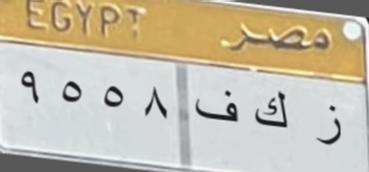5: (98, 82, 130, 116), (54, 79, 88, 106)
8: (138, 85, 173, 120)
9: (17, 66, 46, 108)
faa: (192, 88, 240, 127)
kaaf: (252, 89, 292, 135)
zay: (312, 101, 346, 152)
